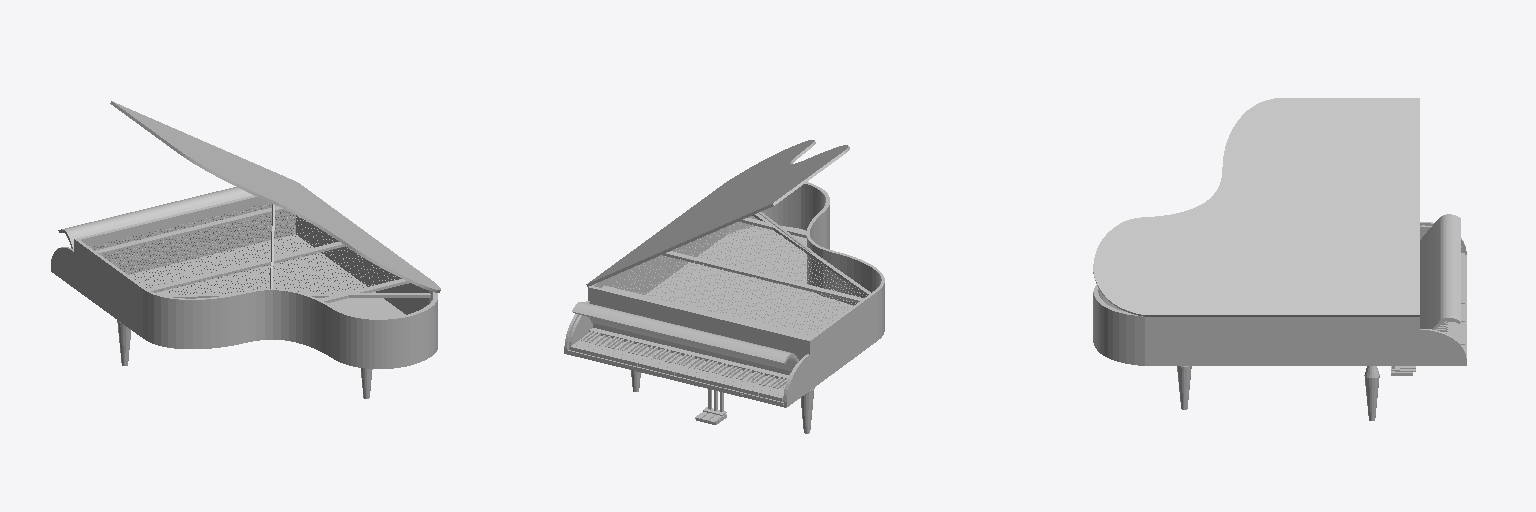
Rendered from piano.obj.
3 views of the same model, side by side, from view 1: azimuth 30°, elevation 25°; view 2: azimuth 150°, elevation 25°; view 3: azimuth 270°, elevation 25° (orthographic).
Visible parts, largest first — view 1: Rectangle01, cover_big, Rectangle03, cover_small, Rectangle13, Rectangle12, Rectangle10, Rectangle04; view 2: Rectangle01, Rectangle03, cover_big, cover_small, Rectangle13, Rectangle09, Rectangle04, Rectangle12, Rectangle02, Rectangle10; view 3: cover_big, Rectangle01, cover_small, Rectangle05, Circle04.
Part boxes in pixels (x1,y1,x2,y2): Rectangle01: (74, 195, 437, 368); cover_big: (110, 101, 440, 292); Rectangle03: (77, 234, 437, 368); cover_small: (58, 187, 252, 248); Rectangle13: (147, 242, 344, 292); Rectangle12: (96, 206, 285, 254); Rectangle10: (162, 293, 430, 298); Rectangle04: (51, 247, 73, 284); Rectangle01: (588, 182, 884, 388); Rectangle03: (646, 226, 870, 389); cover_big: (586, 140, 849, 286); cover_small: (572, 302, 798, 370); Rectangle13: (663, 251, 863, 302); Rectangle09: (589, 328, 788, 379); Rectangle04: (784, 354, 809, 407); Rectangle12: (602, 285, 811, 338); Rectangle02: (567, 352, 809, 406); Rectangle10: (752, 213, 870, 295); cover_big: (1093, 98, 1419, 316); Rectangle01: (1093, 285, 1419, 365); cover_small: (1420, 214, 1460, 329); Rectangle05: (1420, 329, 1466, 365); Circle04: (1364, 366, 1379, 420).
Size of the model in its own units: 189 by 197 by 273.